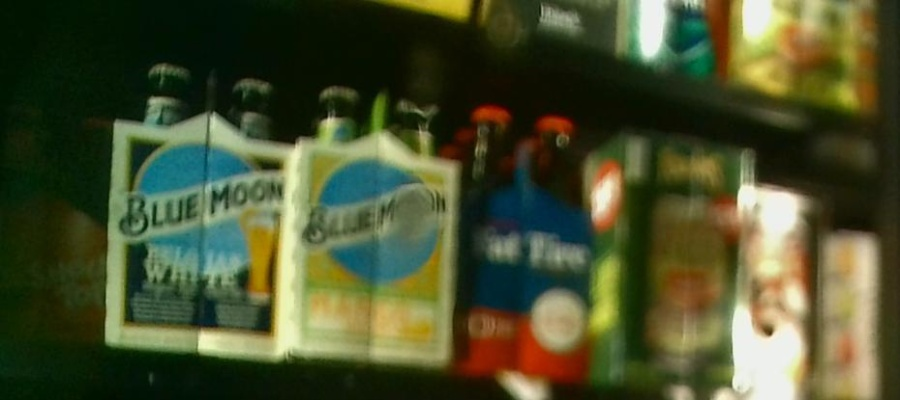bottle: (111, 60, 282, 363), (285, 82, 457, 357), (601, 133, 750, 399), (457, 97, 593, 378)
